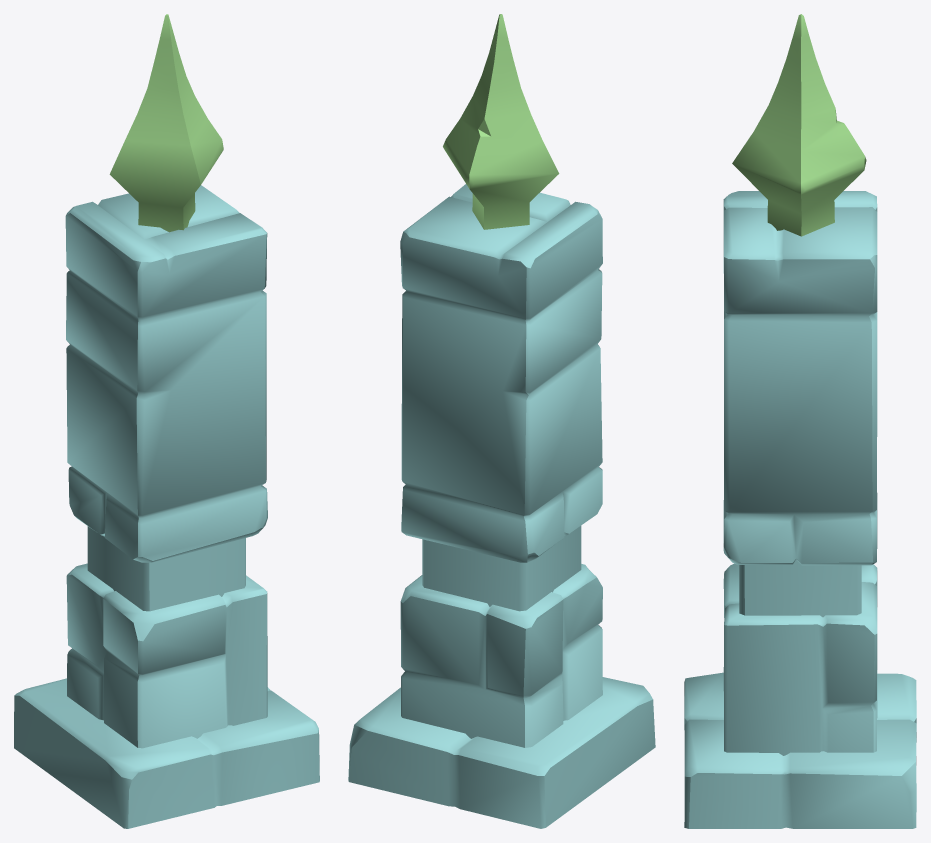
The model's file is SM_Fence_2.fbx.
3 views of the same model, side by side, from view 1: azimuth 30°, elevation 25°; view 2: azimuth 150°, elevation 25°; view 3: azimuth 270°, elevation 25° (orthographic). The views are drawn at different scales.
Visible parts, largest first — view 1: SM_Fence_2; view 2: SM_Fence_2; view 3: SM_Fence_2.
Boxes of the visible parts, left/top/right/bottom form: SM_Fence_2: left=14, top=14, right=319, bottom=828; SM_Fence_2: left=348, top=14, right=655, bottom=828; SM_Fence_2: left=684, top=14, right=916, bottom=828.
Size of the model in its own units: 41.75 by 152 by 41.74.
